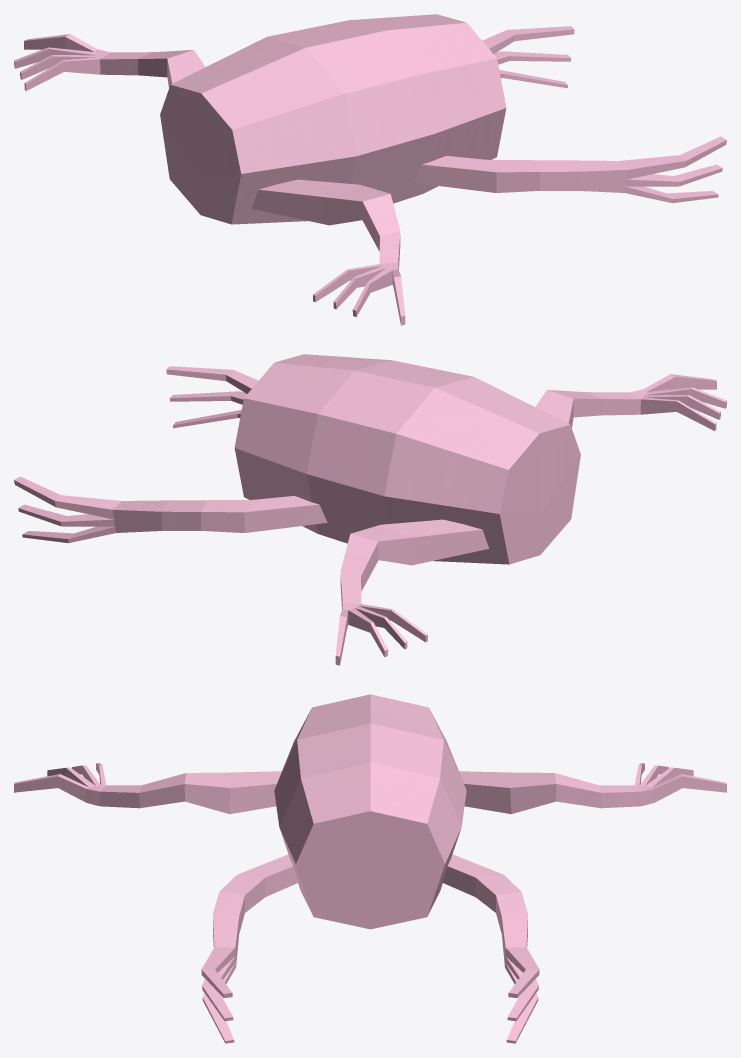
The model's file is Axolotl_Body.fbx.
3 views of the same model, one above another, from view 1: azimuth 30°, elevation 25°; view 2: azimuth 150°, elevation 25°; view 3: azimuth 270°, elevation 25° (orthographic). The views are drawn at different scales.
Parts seen in each view (by area): view 1: Axolotl_Body; view 2: Axolotl_Body; view 3: Axolotl_Body.
Part boxes in pixels (x1,y1,x2,y2): Axolotl_Body: (14,14,726,325); Axolotl_Body: (14,354,726,665); Axolotl_Body: (14,694,726,1043).
Bounding box in the file's own units: 93.37 × 32.6 × 127.
